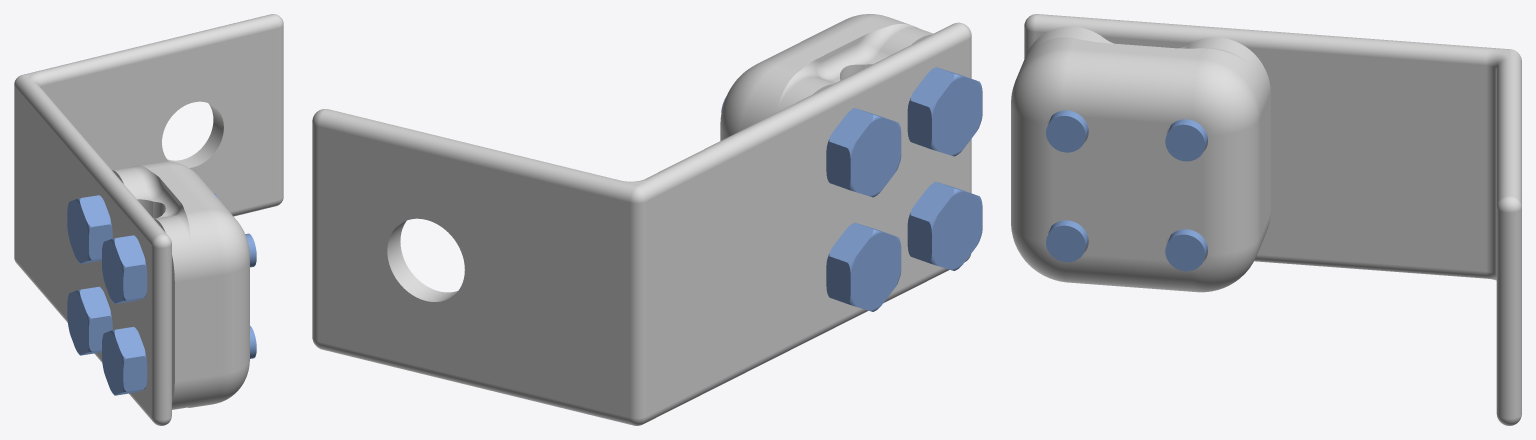
File: LightPro.glb
The picture shows the model from 3 angles, left to right: view 1: azimuth 30°, elevation 25°; view 2: azimuth 150°, elevation 25°; view 3: azimuth 270°, elevation 25°; orthographic projection. The views are drawn at different scales.
Visible parts, largest first — view 1: INOX_LightPro, 20220216_MAC_I, Boulons INOX 10x25 (×4); view 2: INOX_LightPro, Boulons INOX 10x25 (×4), 20220216_MAC_I; view 3: INOX_LightPro, 20220216_MAC_I, Boulons INOX 10x25 (×4).
Part boxes in pixels (x1,y1,x2,y2): INOX_LightPro: (14,14,283,425); 20220216_MAC_I: (112,161,249,409); Boulons INOX 10x25 (×4): (67,193,256,395); INOX_LightPro: (312,22,971,425); Boulons INOX 10x25 (×4): (721,67,982,311); 20220216_MAC_I: (720,14,933,140); INOX_LightPro: (1024,14,1521,425); 20220216_MAC_I: (1011,26,1270,292); Boulons INOX 10x25 (×4): (1046,110,1207,271).
Bounding box in the file's own units: 0.0951 × 0.05 × 0.1012.
